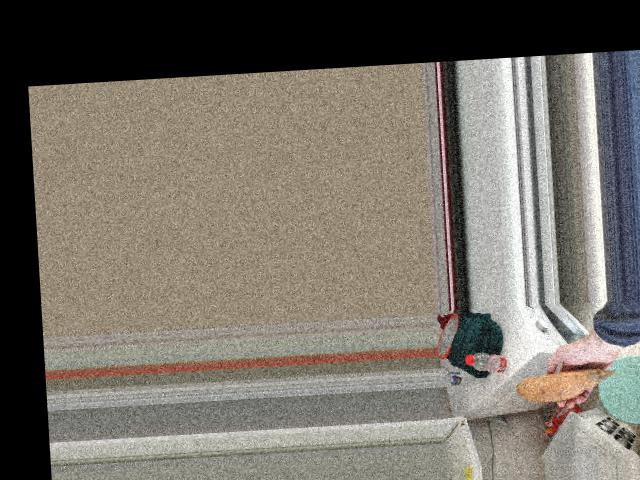sweet_potato: (517, 368, 602, 406)
